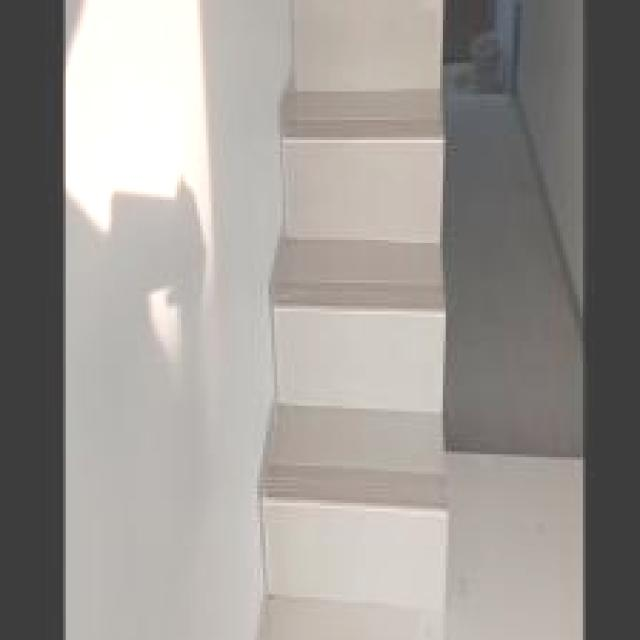upstair: (264, 75, 461, 627)
